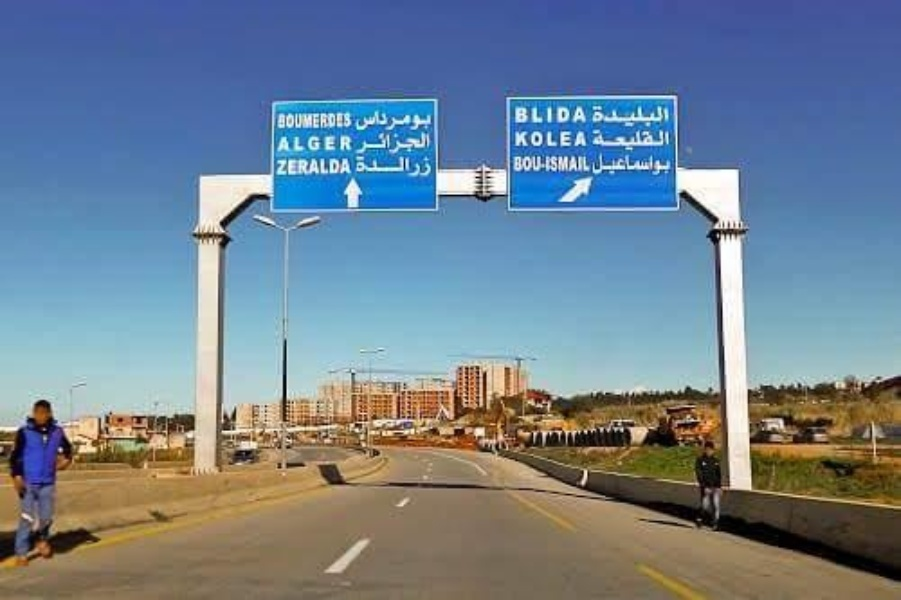text: (657, 150, 673, 177), (593, 150, 608, 177), (609, 150, 624, 177), (625, 150, 640, 177), (641, 150, 656, 177), (657, 128, 673, 152), (369, 130, 384, 155), (385, 130, 400, 155), (401, 130, 416, 155), (417, 109, 433, 132), (657, 105, 673, 128), (593, 128, 608, 152), (609, 128, 624, 152), (625, 128, 640, 152), (641, 128, 656, 152), (354, 130, 368, 155), (417, 130, 431, 155), (369, 109, 384, 132), (385, 109, 400, 132), (401, 109, 416, 132), (593, 105, 608, 128), (609, 105, 624, 128), (625, 105, 640, 128), (641, 105, 656, 128), (369, 155, 384, 177), (385, 155, 400, 177), (401, 155, 416, 177), (417, 155, 432, 177), (354, 109, 368, 132), (354, 155, 368, 177), (529, 128, 544, 148), (545, 128, 560, 148), (561, 128, 576, 148), (513, 154, 528, 173), (529, 154, 544, 173), (545, 154, 560, 173), (561, 154, 576, 173), (577, 154, 592, 173), (514, 128, 528, 148), (289, 112, 304, 130), (305, 112, 320, 130), (321, 112, 336, 130), (337, 112, 352, 130), (289, 134, 304, 152), (305, 134, 320, 152), (321, 134, 336, 152), (337, 134, 352, 152), (289, 157, 304, 175), (305, 157, 320, 175), (321, 157, 336, 175), (337, 157, 352, 175), (529, 105, 544, 123), (545, 105, 560, 123), (561, 105, 576, 123), (274, 157, 288, 175), (514, 105, 528, 123), (276, 112, 288, 130), (276, 134, 288, 152), (577, 105, 588, 123), (577, 128, 586, 148), (590, 128, 592, 152), (590, 105, 592, 128), (433, 155, 435, 177), (353, 134, 354, 152)
